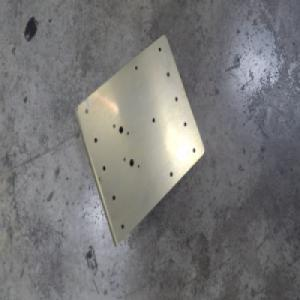MetalSheet: (72, 33, 205, 249)
